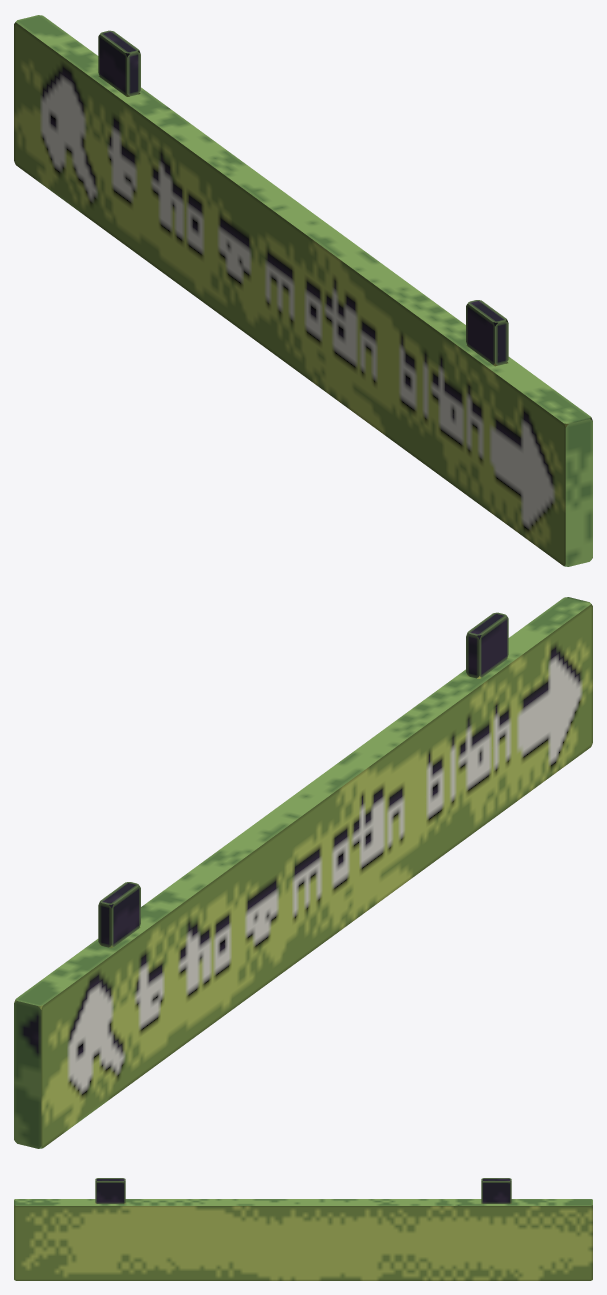
The model's file is PlacqueBottomModule.fbx.
3 views of the same model, one above another, from view 1: azimuth 30°, elevation 25°; view 2: azimuth 150°, elevation 25°; view 3: azimuth 270°, elevation 25° (orthographic). The views are drawn at different scales.
Parts seen in each view (by area): view 1: Placque; view 2: Placque; view 3: Placque.
Boxes of the visible parts, x1,y1,x2,y2 form: Placque: (14,15,592,566); Placque: (14,597,592,1148); Placque: (14,1178,592,1280).
Size of the model in its own units: 6.25 by 40.62 by 219.
Materials: 1 (1 with a texture image).
